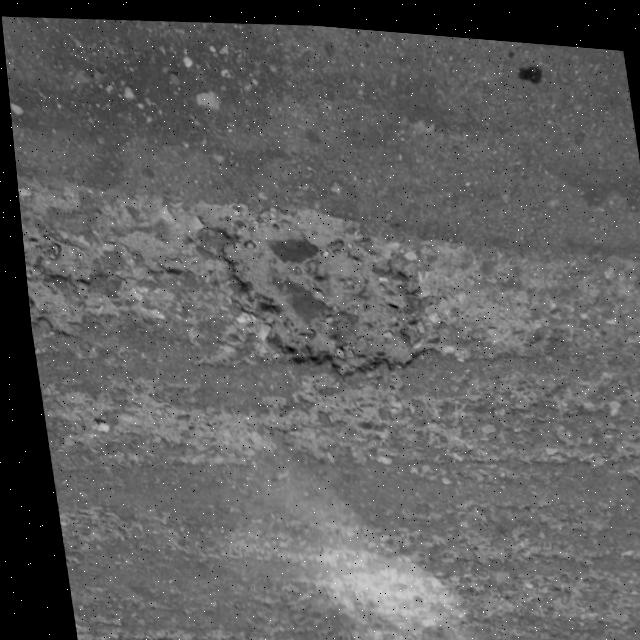Pothole: (197, 183, 443, 391), (17, 224, 107, 345)
